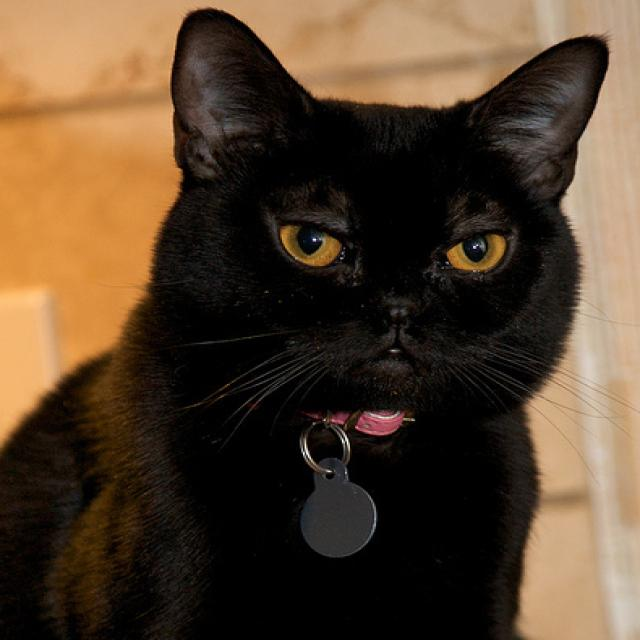Bombay: (0, 3, 614, 640)
